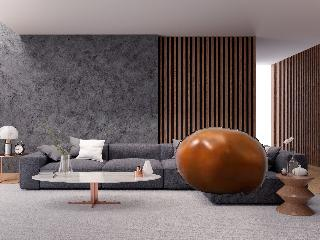potato: (173, 124, 271, 198)
